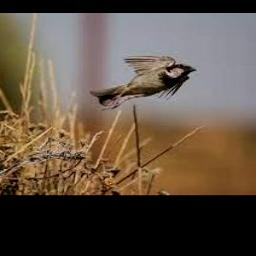Sparrow: (89, 55, 196, 111)
